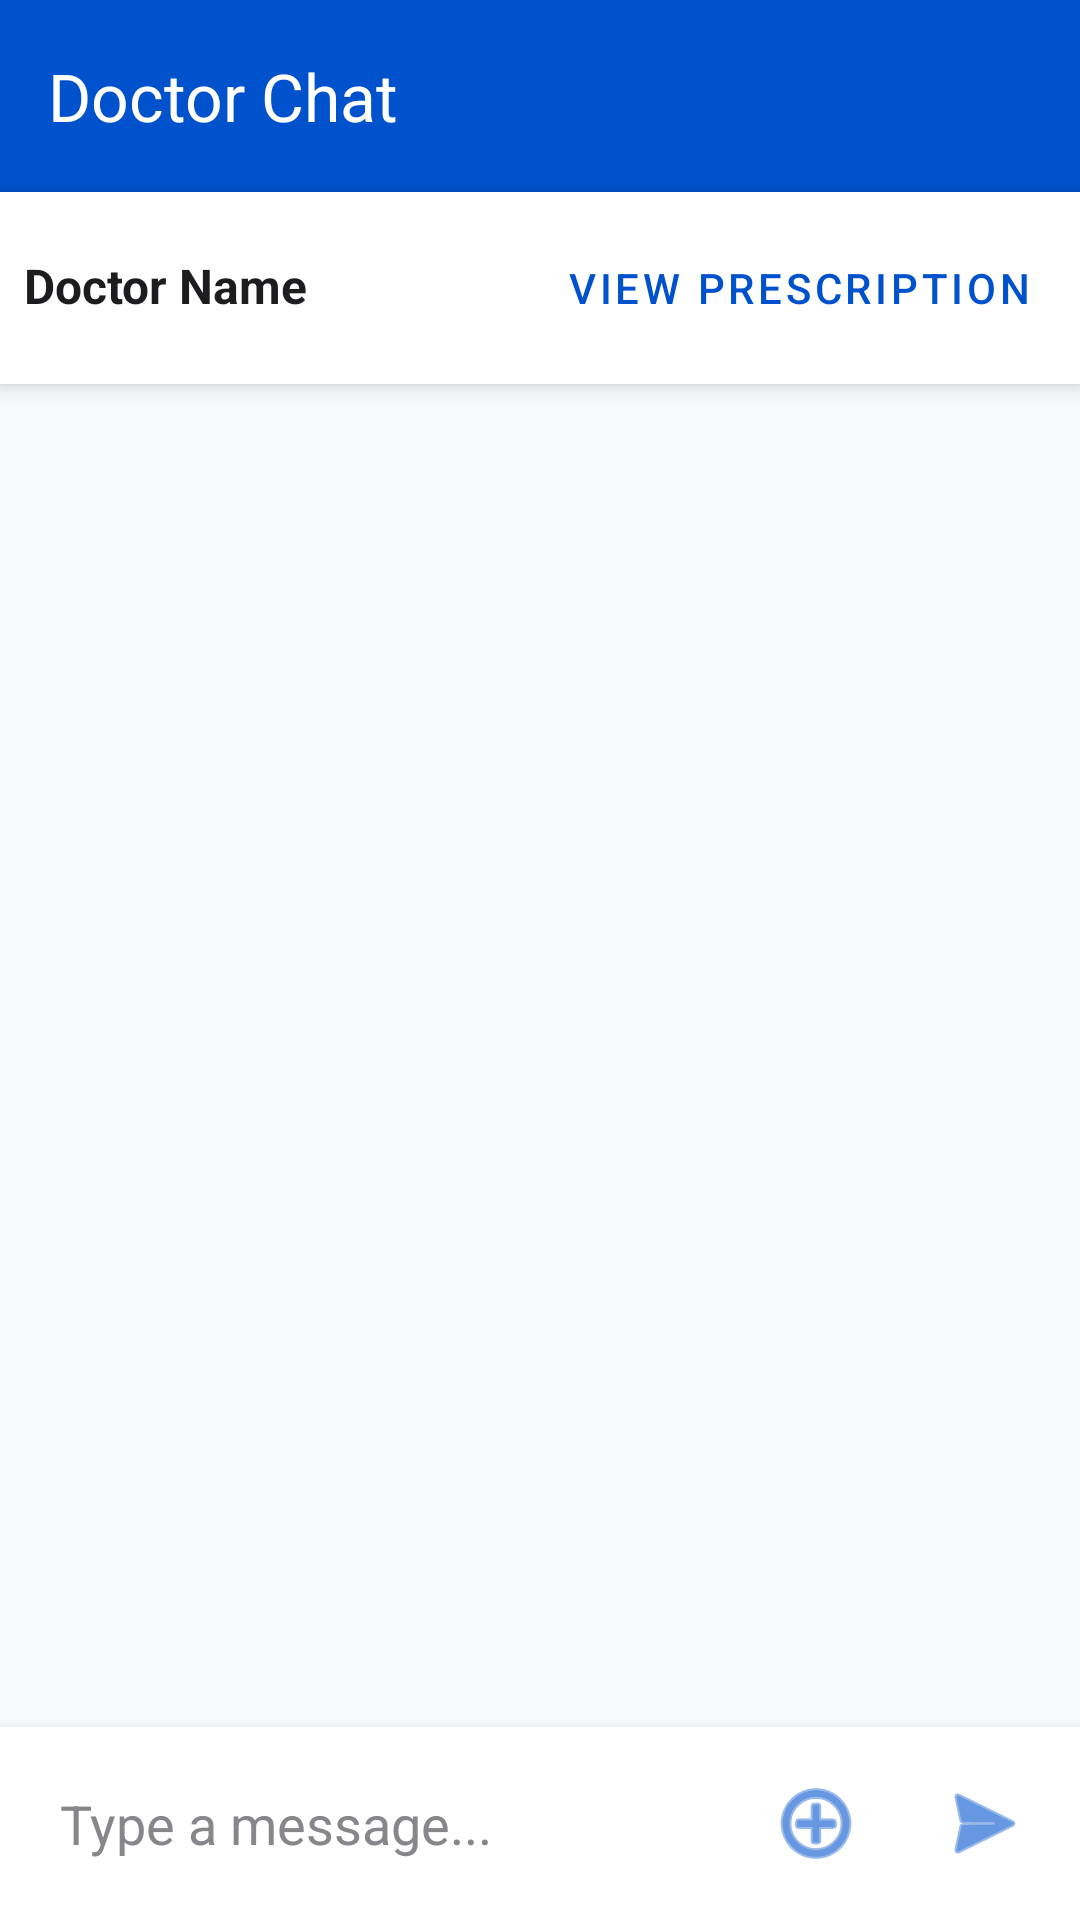

Where icons sit on this 1080px x 1920px app screen, as {"left": x1, "top": y1, "right": x2, "bottom": y2}:
add: {"left": 780, "top": 1788, "right": 852, "bottom": 1859}
send: {"left": 954, "top": 1793, "right": 1016, "bottom": 1854}
